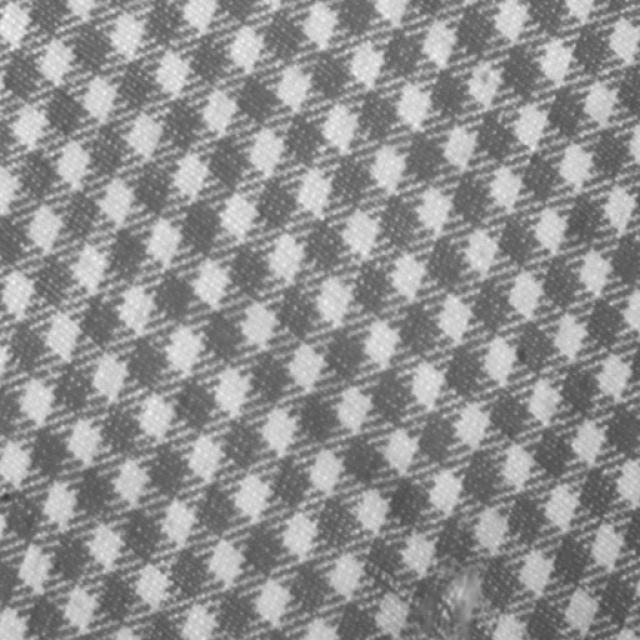Hole-Defect: (421, 562, 501, 639)
